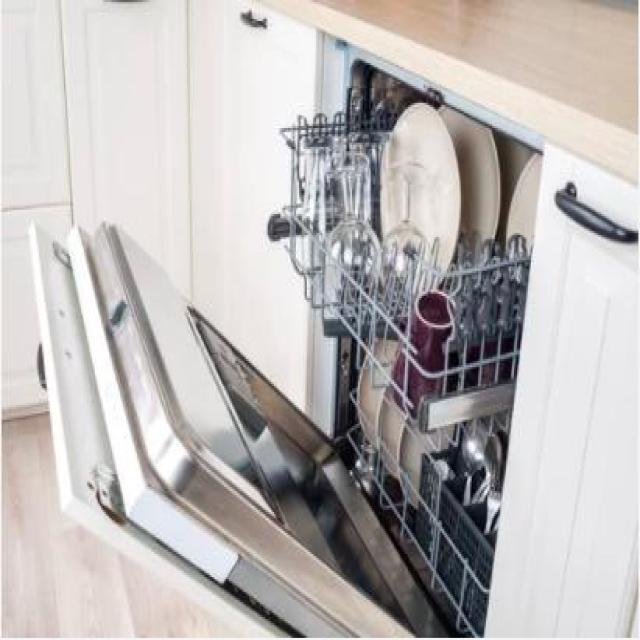dishwasher: (20, 46, 547, 638)
